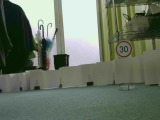speed_20: (114, 40, 133, 58)
